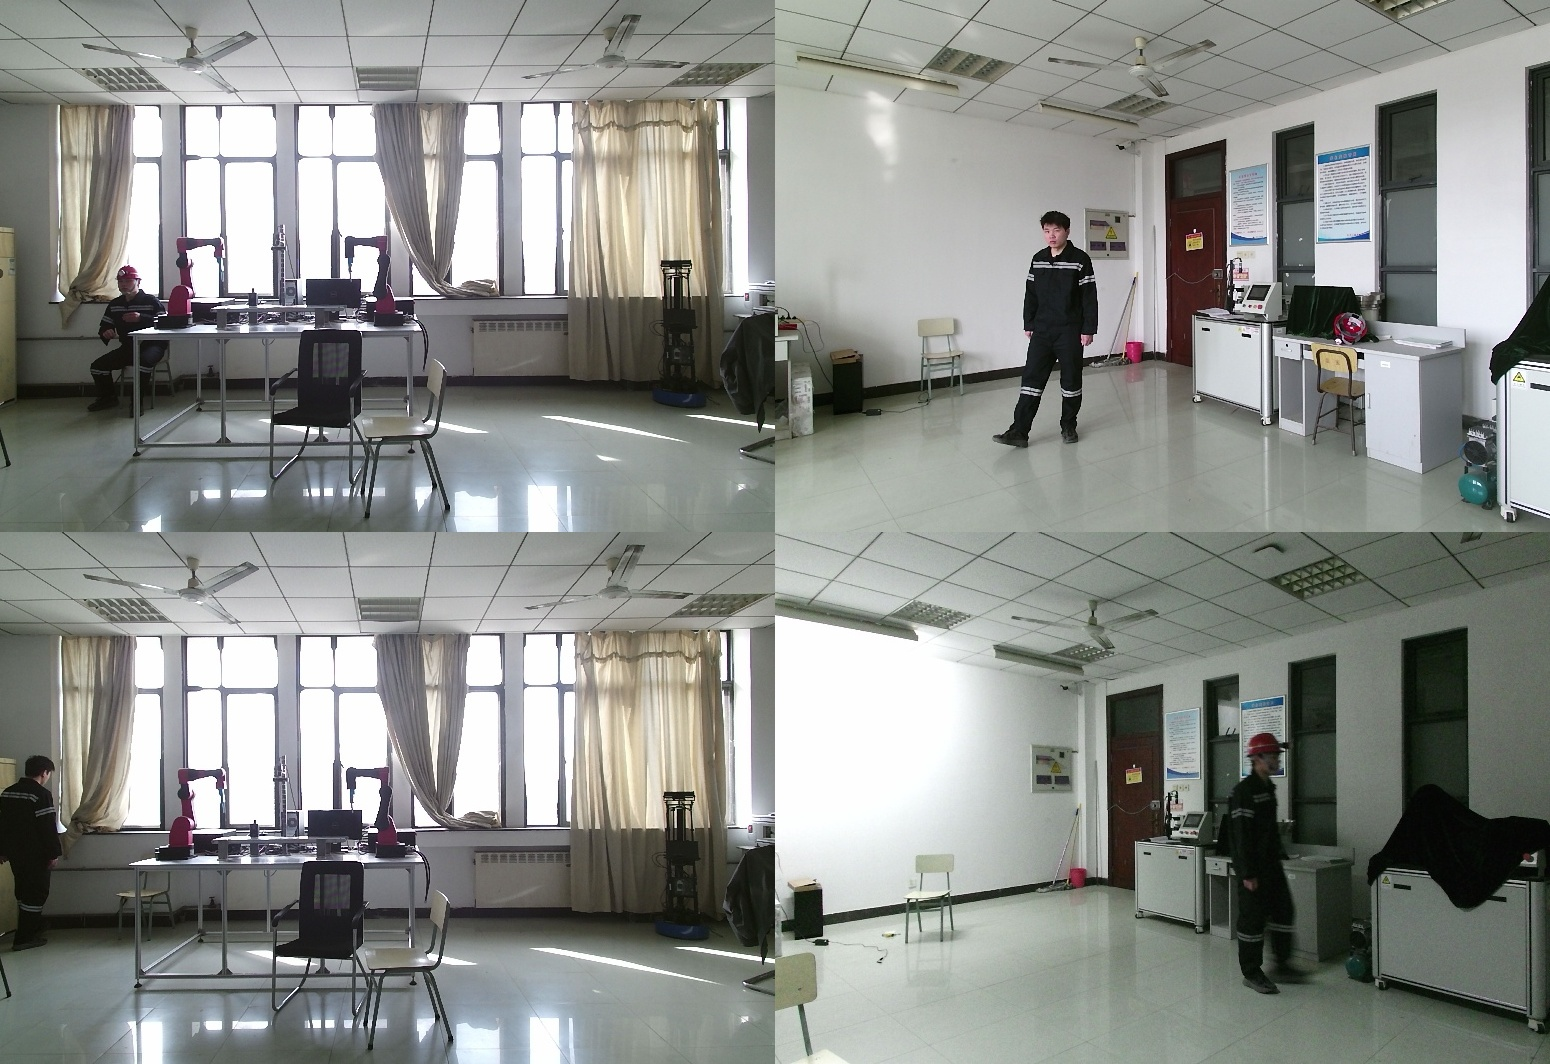person: (994, 213, 1108, 445), (1217, 734, 1291, 993), (82, 265, 179, 413), (1, 756, 68, 949)
